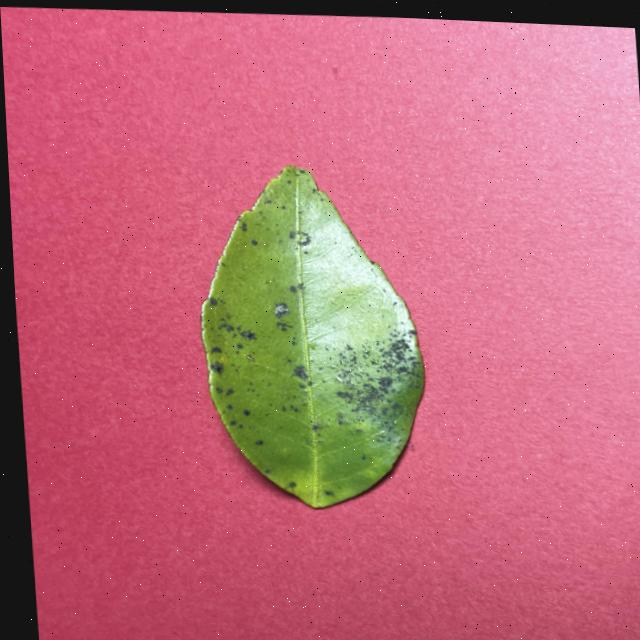sooty_mold: (202, 165, 423, 507)
